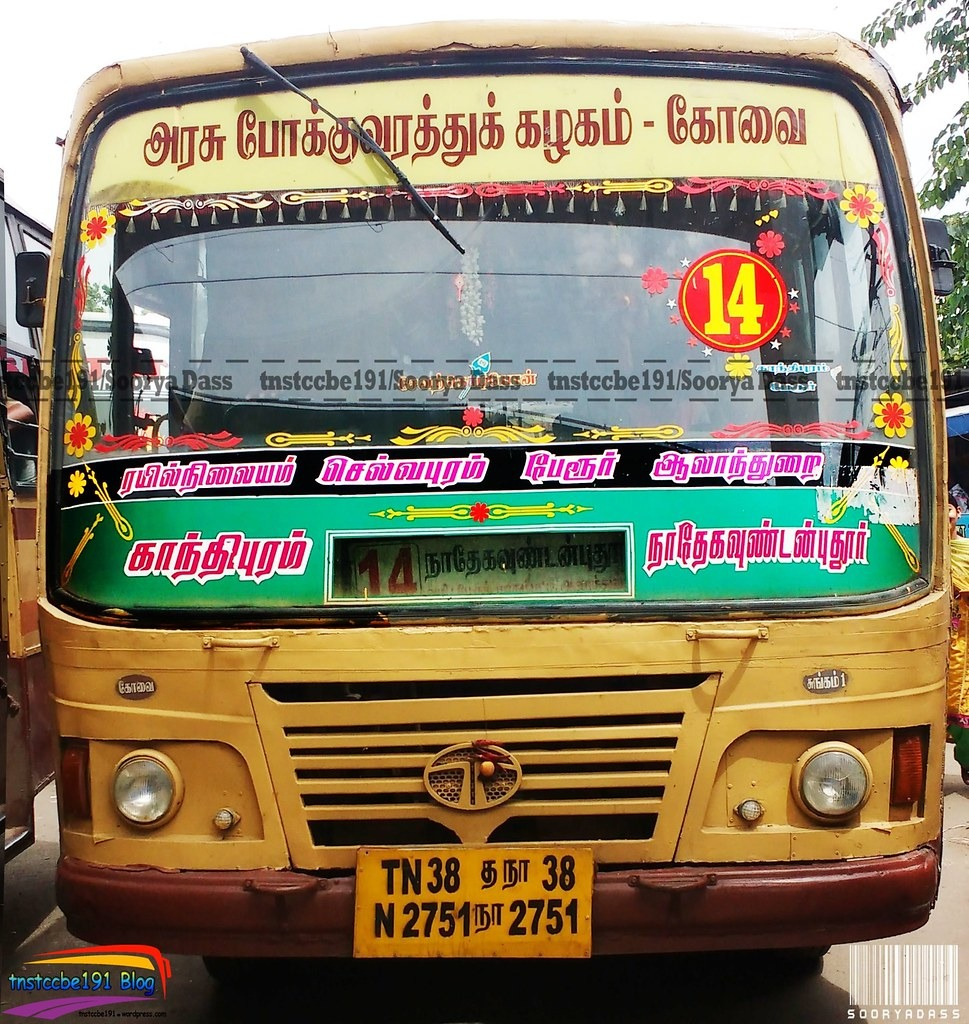bus: (45, 26, 945, 976)
numberplate: (348, 837, 613, 966)
